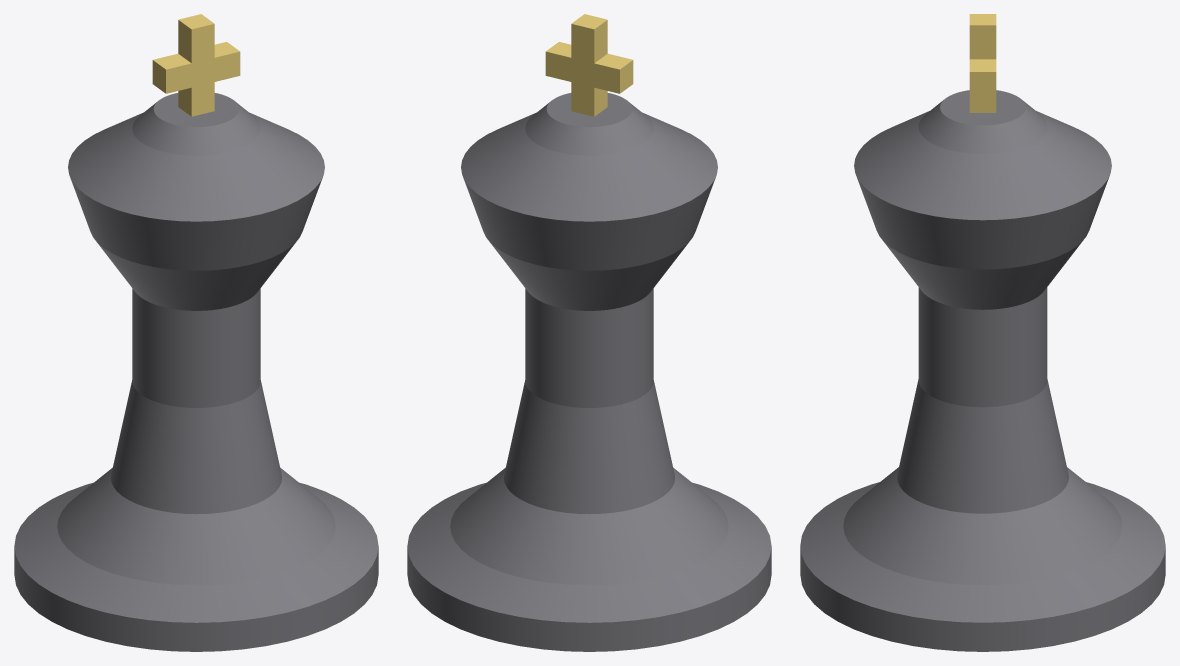
The model's file is king.glb.
3 views of the same model, side by side, from view 1: azimuth 30°, elevation 25°; view 2: azimuth 150°, elevation 25°; view 3: azimuth 270°, elevation 25° (orthographic).
Parts seen in each view (by area): view 1: king; view 2: king; view 3: king.
Boxes of the visible parts, left/top/right/bottom form: king: left=14, top=14, right=378, bottom=651; king: left=407, top=14, right=771, bottom=651; king: left=800, top=14, right=1165, bottom=651.
Bounding box in the file's own units: 0.34 × 0.57 × 0.34.
